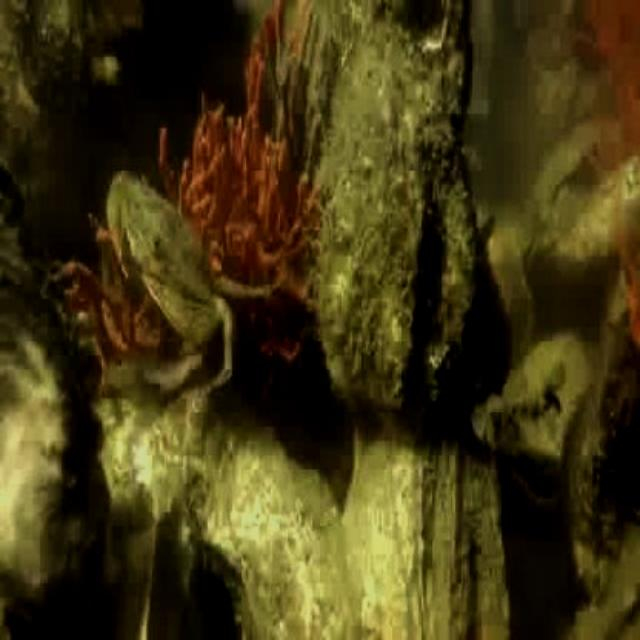Oyster-Closed: (0, 199, 103, 638), (0, 163, 23, 217)
Oyster-Open: (325, 0, 474, 416), (0, 593, 52, 638)
